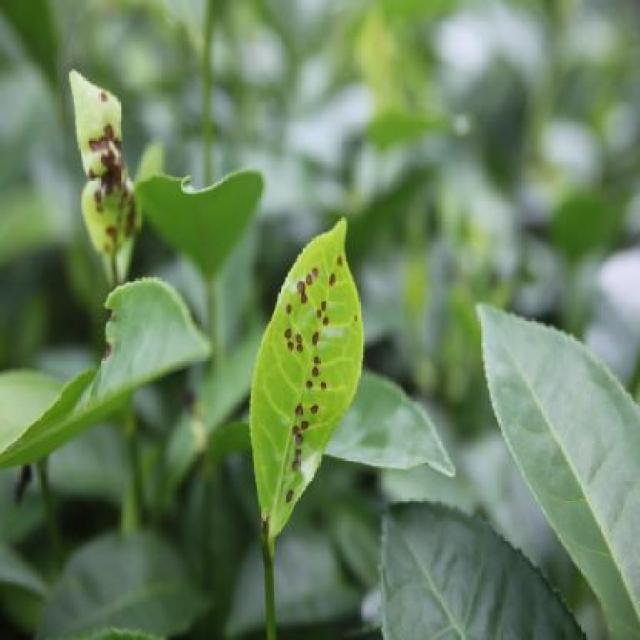Tea Mosquito bug infested leaf: (243, 205, 380, 503), (62, 50, 143, 262)
